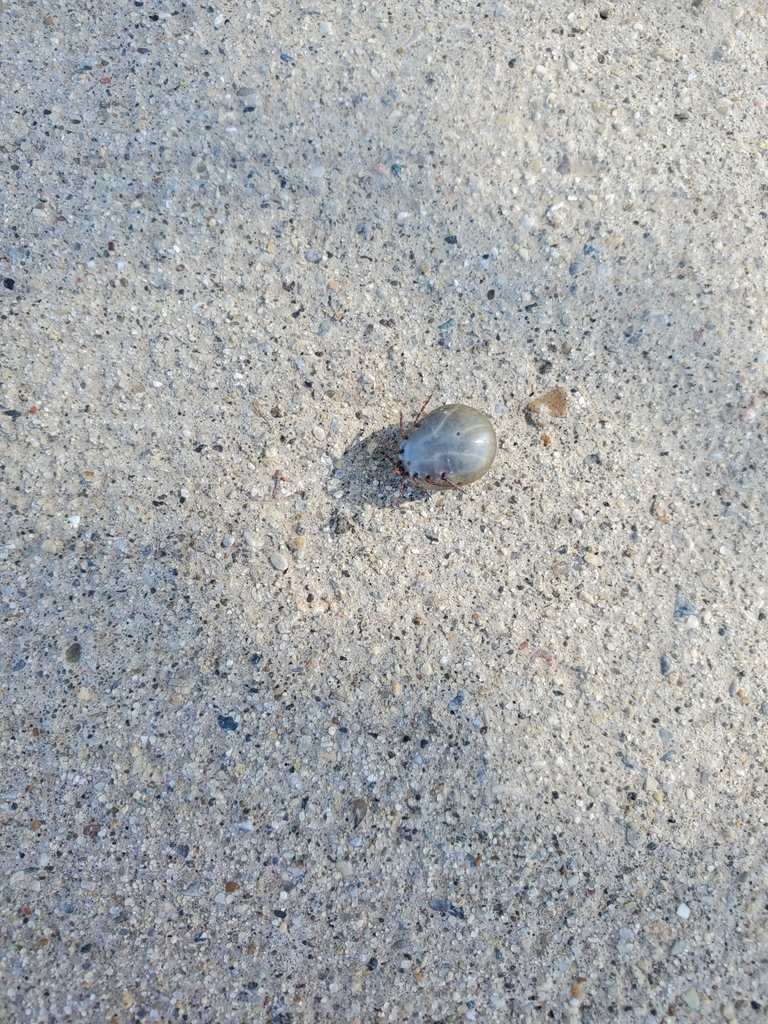garrapata: (341, 364, 529, 525)
